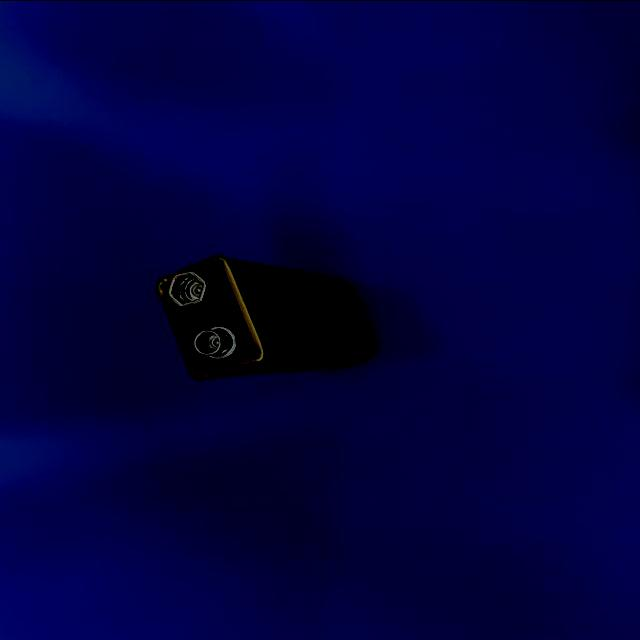9V: (157, 253, 372, 379)
